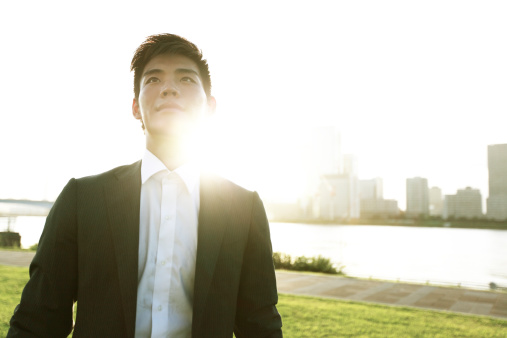em pe: (12, 22, 298, 338)
